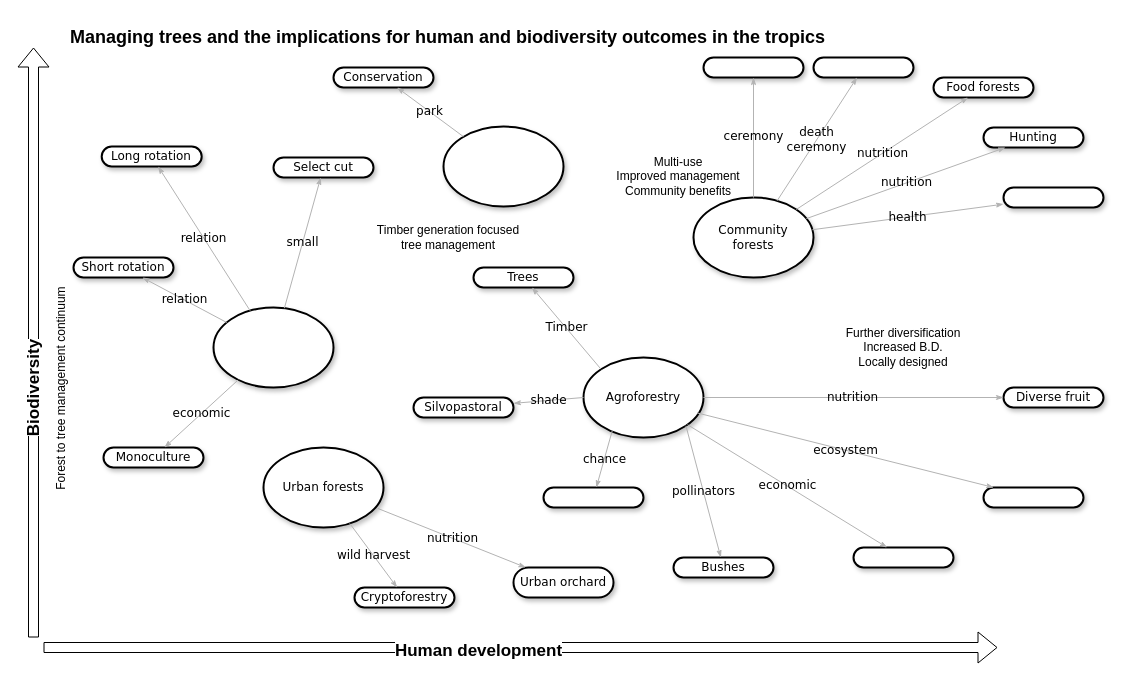
Some shapes in this 1127 by 680 pixel diagram are drawn without their labels. The shapes that lost their labels are listed below. From the top down, each one's centre as x and y in pixels, then its label:
At (x=754, y=68): "Spiritual".
At (x=864, y=68): "Burial".
At (x=504, y=167): "Non-Resource management".
At (x=1054, y=198): "Medicine".
At (x=274, y=348): "Silviculture".
At (x=594, y=498): "Scattered trees".
At (x=1034, y=498): "Habitat".
At (x=904, y=558): "Markets".
